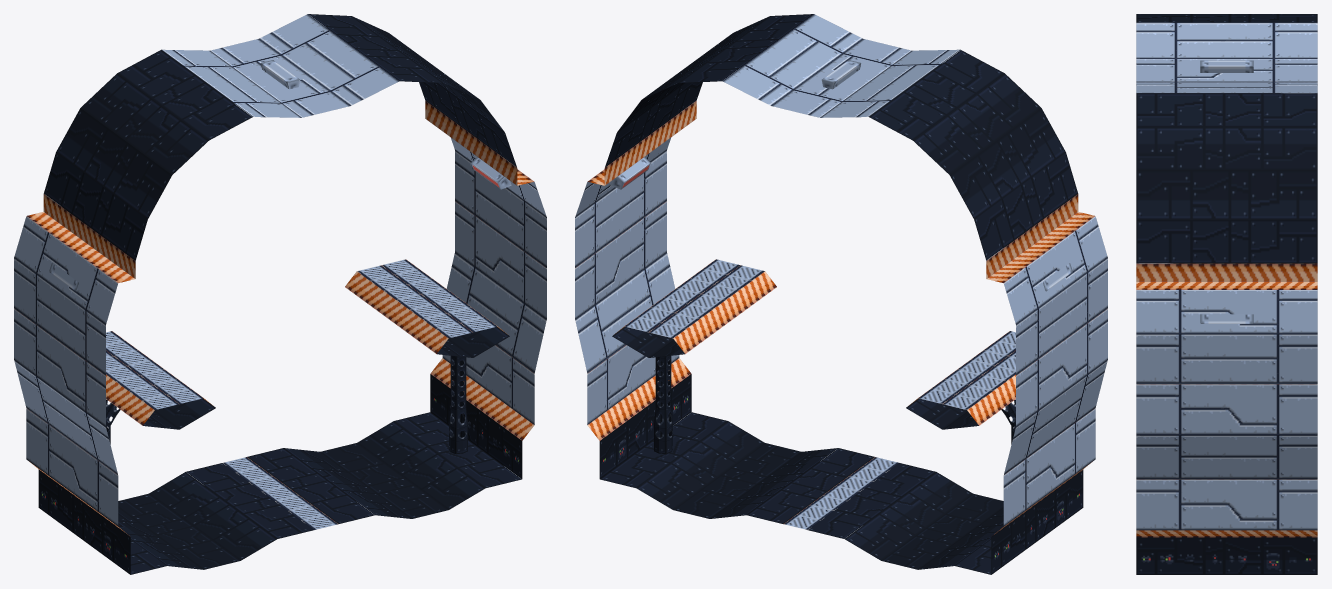
The model's file is spaceStation.fbx.
3 views of the same model, side by side, from view 1: azimuth 30°, elevation 25°; view 2: azimuth 150°, elevation 25°; view 3: azimuth 270°, elevation 25° (orthographic).
Visible parts, largest first — view 1: Plane; view 2: Plane; view 3: Plane.
Part boxes in pixels (x1,y1,x2,y2): Plane: [14, 14, 546, 574]; Plane: [575, 14, 1107, 574]; Plane: [1136, 14, 1317, 574].
Bounding box in the file's own units: 3600 × 3441 × 1300.
